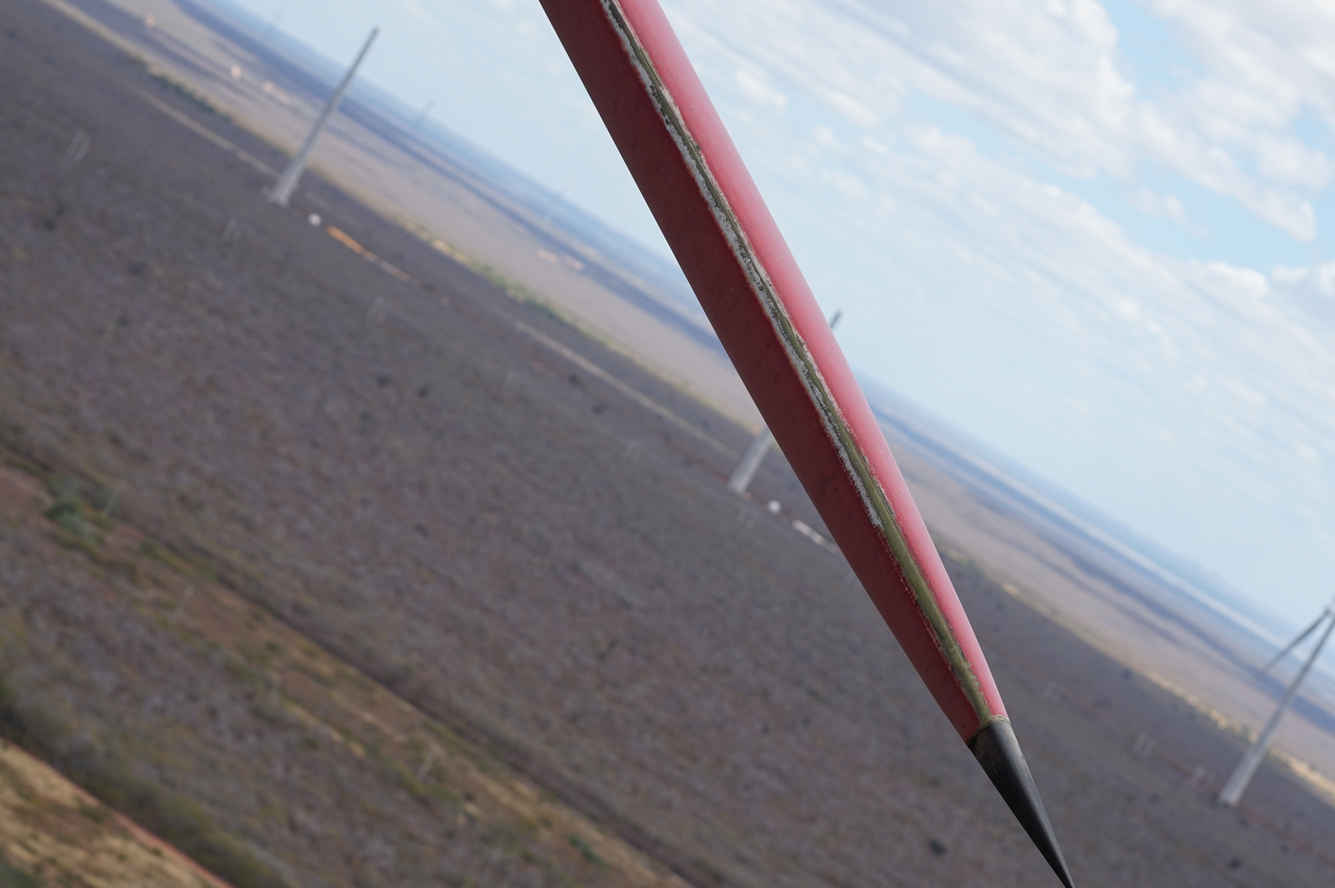Damage: (599, 0, 995, 727)
